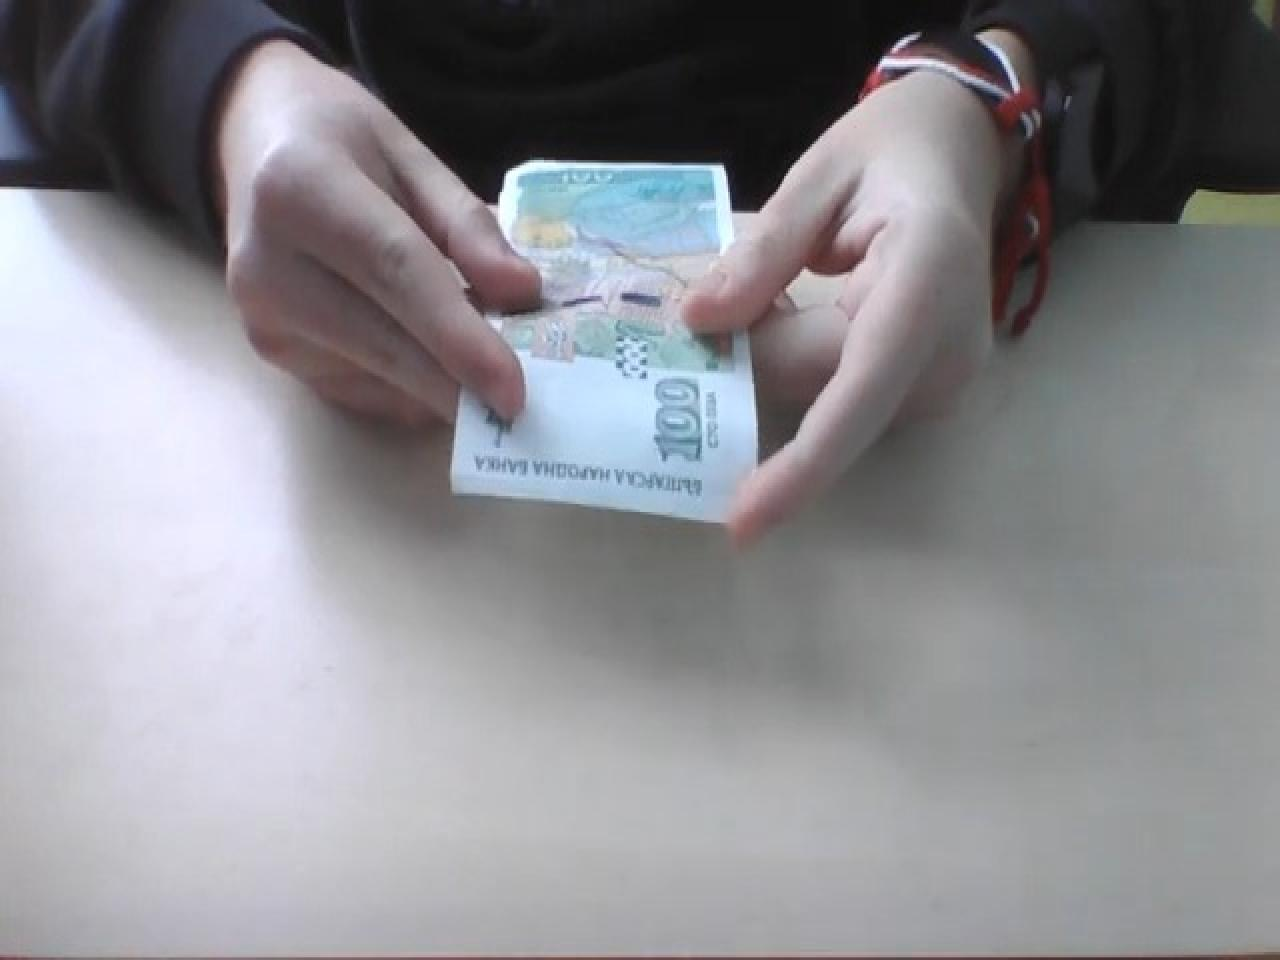100leva: (446, 154, 760, 525)
